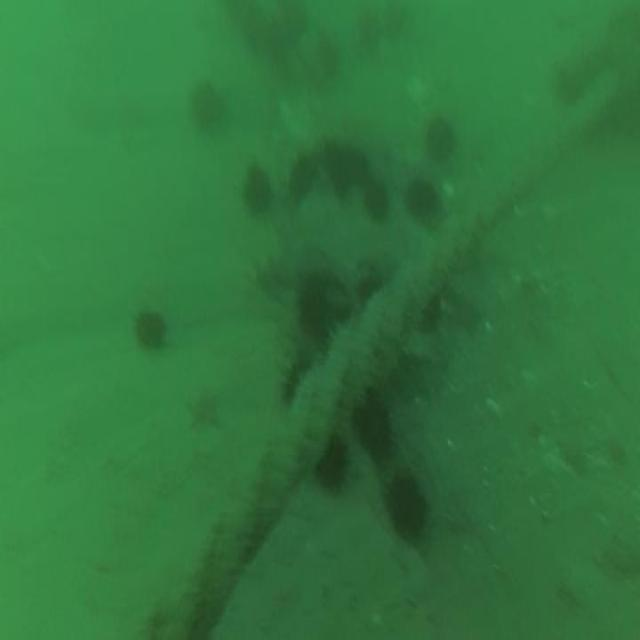echinus: (377, 463, 435, 550), (294, 264, 356, 340), (352, 387, 401, 474), (312, 428, 354, 506), (319, 130, 356, 206), (127, 297, 172, 357), (239, 158, 277, 218), (185, 78, 224, 134), (285, 146, 320, 208), (276, 349, 313, 406), (424, 114, 461, 170), (403, 171, 440, 226), (360, 170, 394, 228)
starfish: (183, 380, 224, 440)
